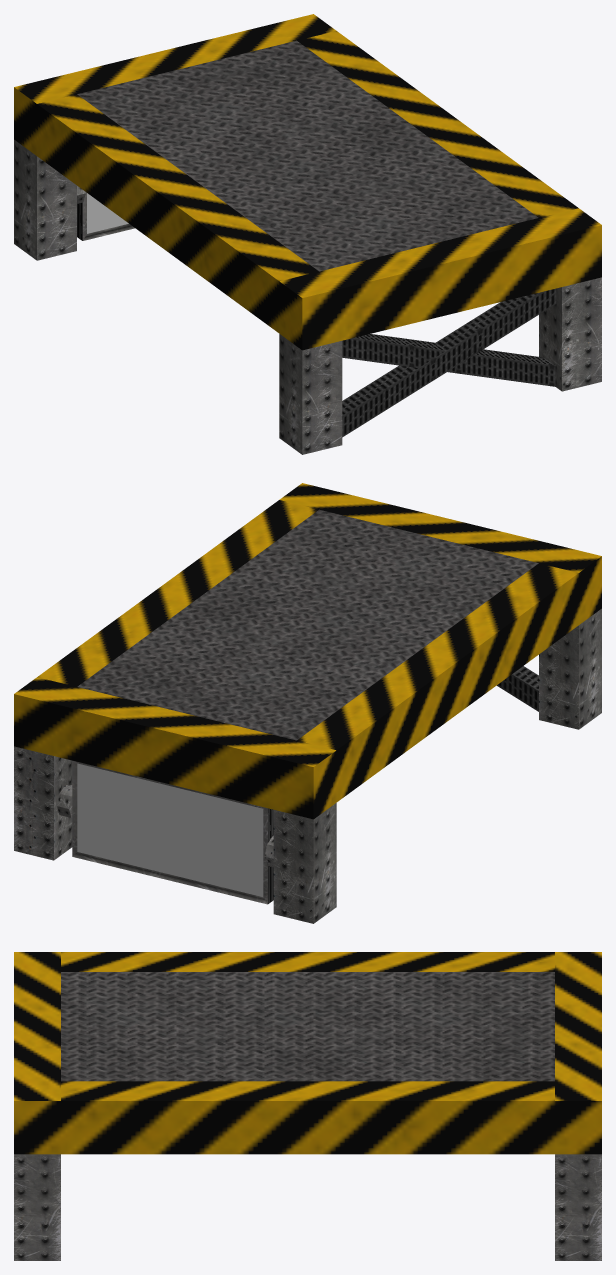
The model's file is End.fbx.
The picture shows the model from 3 angles, top to bottom: view 1: azimuth 30°, elevation 25°; view 2: azimuth 150°, elevation 25°; view 3: azimuth 270°, elevation 25°; orthographic projection.
Visible parts, largest first — view 1: End, Screen_End; view 2: End, Screen_End; view 3: End.
Part boxes in pixels (left/top/right/bottom): End: left=14, top=14, right=601, bottom=454; Screen_End: left=77, top=192, right=134, bottom=240; End: left=14, top=483, right=601, bottom=923; Screen_End: left=72, top=760, right=273, bottom=904; End: left=14, top=952, right=601, bottom=1260.
Size of the model in its own units: 3 by 1.5 by 5.
